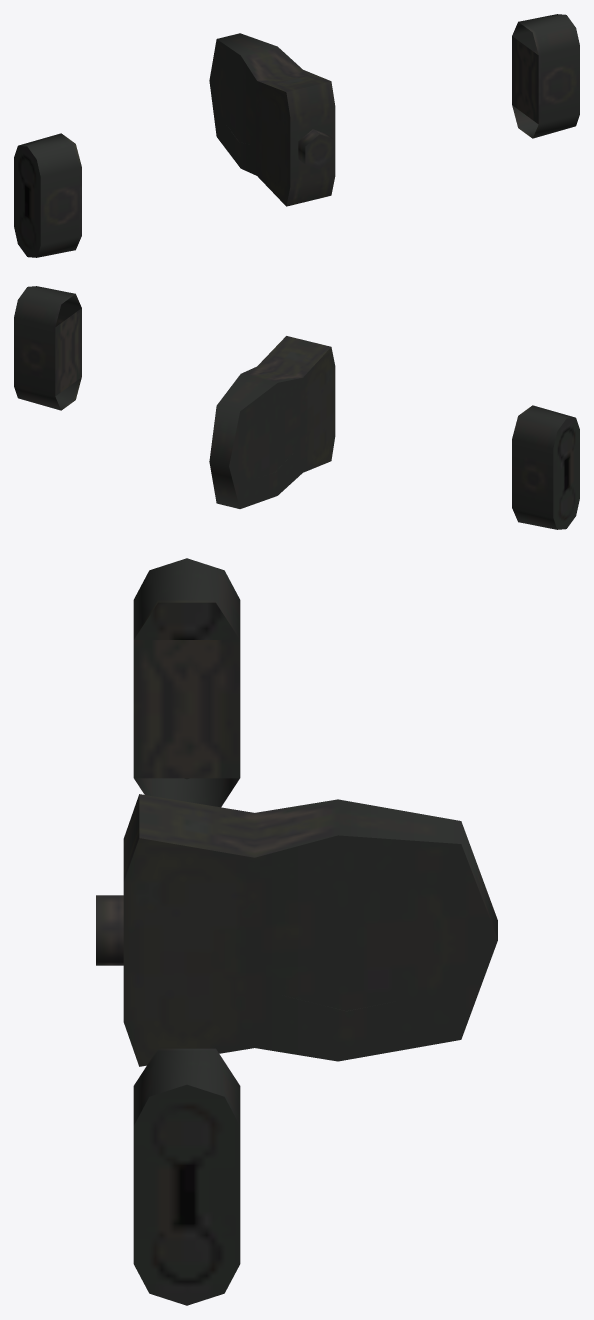
3 views of the same model, one above another, from view 1: azimuth 30°, elevation 25°; view 2: azimuth 150°, elevation 25°; view 3: azimuth 270°, elevation 25° (orthographic). The views are drawn at different scales.
Visible parts, largest first — view 1: set_0_group_0; view 2: set_0_group_0; view 3: set_0_group_0.
Part boxes in pixels (x1=…): set_0_group_0: x1=14, y1=14, x2=579, y2=257; set_0_group_0: x1=14, y1=286, x2=579, y2=529; set_0_group_0: x1=96, y1=558, x2=497, y2=1305.
Bounding box in the file's own units: 0.444 × 0.09 × 0.1434.
Materials: 1 (1 with a texture image).
